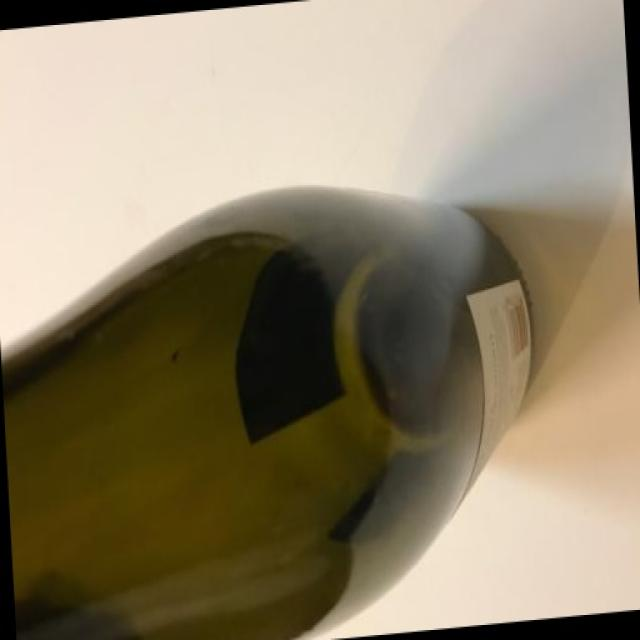vidrio: (5, 155, 555, 640)
